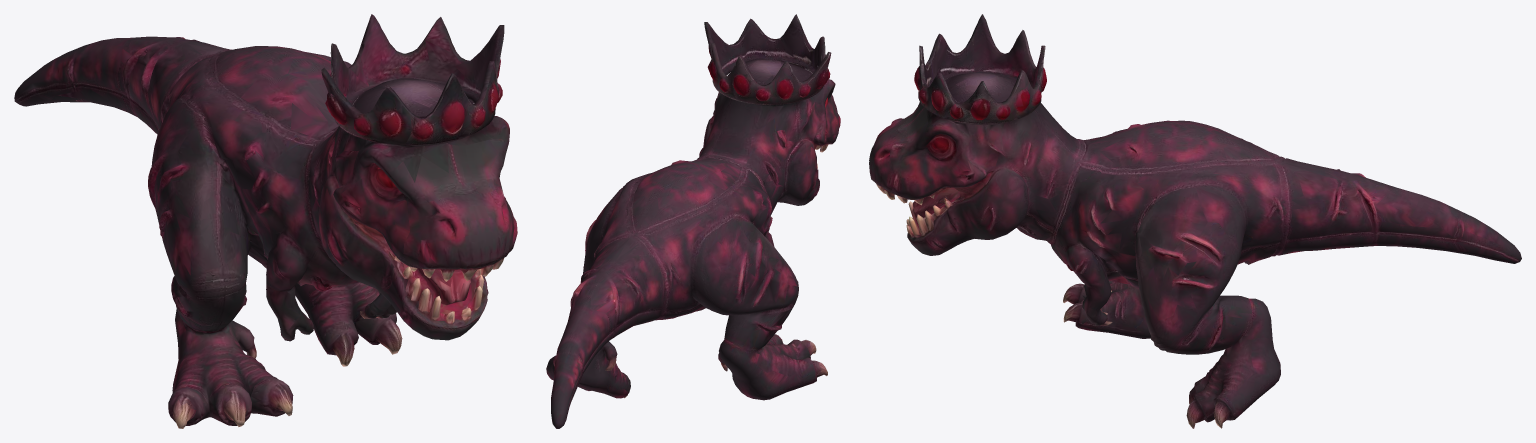
File: dino_tyranno_3.glb
The picture shows the model from 3 angles, left to right: view 1: azimuth 30°, elevation 25°; view 2: azimuth 150°, elevation 25°; view 3: azimuth 270°, elevation 25°; orthographic projection. The views are drawn at different scales.
Visible parts, largest first — view 1: mesh_node; view 2: mesh_node; view 3: mesh_node.
Boxes of the visible parts, box(x1,y1,x2,y2) form: mesh_node: box(14, 14, 517, 428); mesh_node: box(546, 14, 840, 428); mesh_node: box(869, 14, 1521, 428).
Bounding box in the file's own units: 1.12 × 1.46 × 2.54.
1 material, 1 textured.
